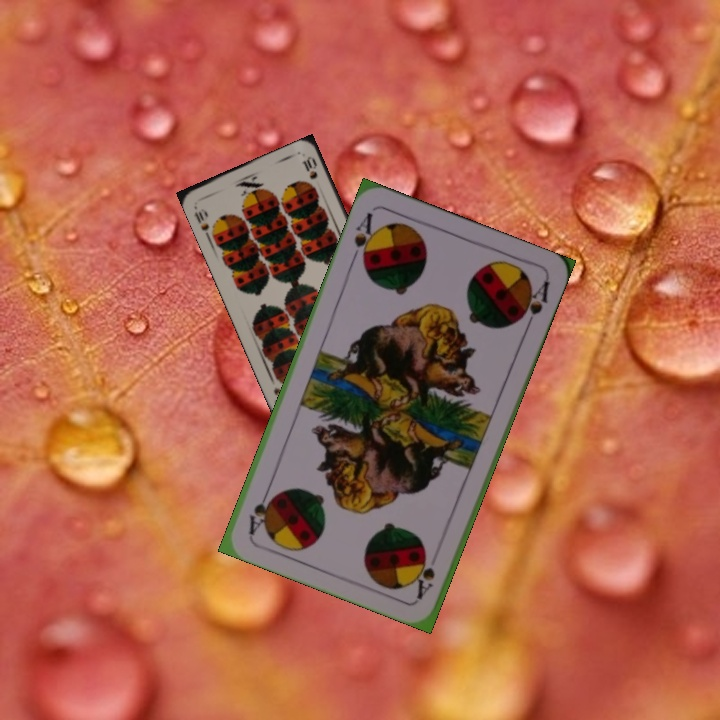S10: (190, 201, 212, 234)
SA: (347, 208, 380, 267), (412, 552, 438, 602)
